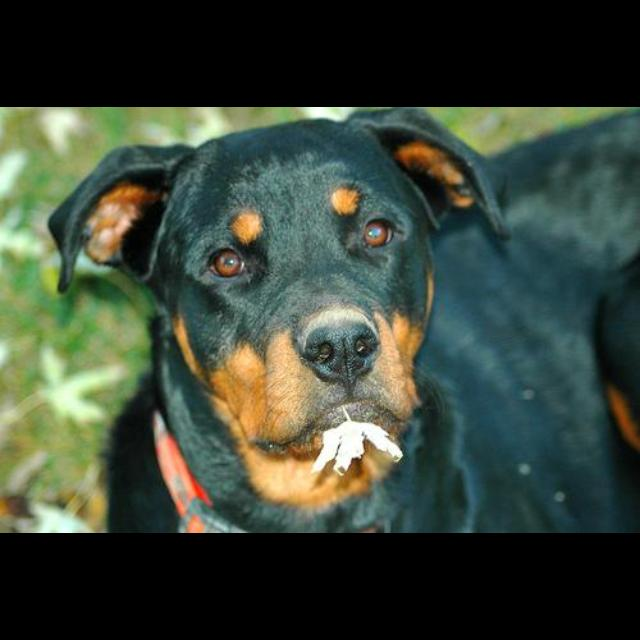rottweiler: (47, 108, 639, 532)
